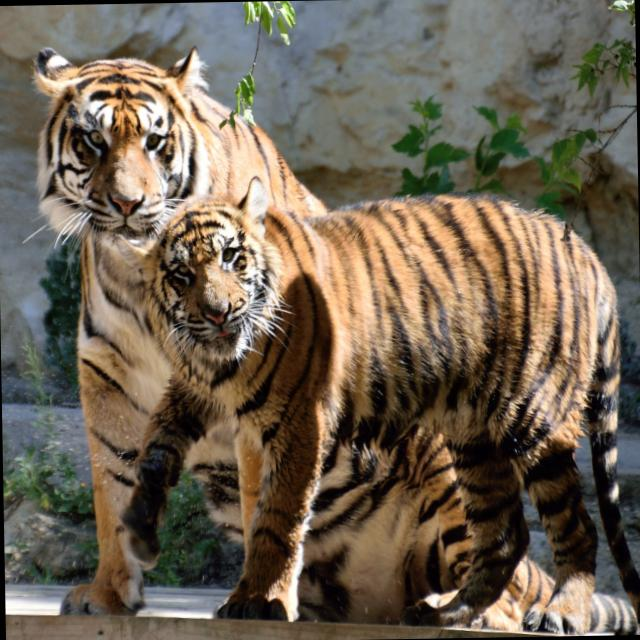tiger: (21, 46, 584, 594), (137, 152, 619, 632)
